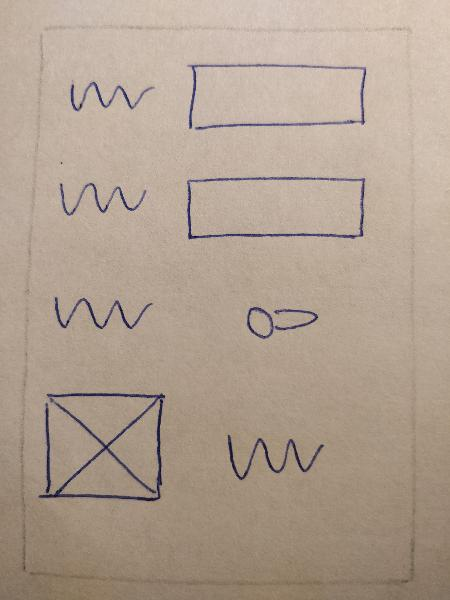image: (36, 386, 177, 513)
switch: (230, 297, 334, 344)
text: (212, 422, 337, 491), (49, 174, 158, 229), (45, 289, 162, 337), (60, 76, 157, 116)
text_input: (176, 53, 377, 139), (178, 169, 379, 251)
